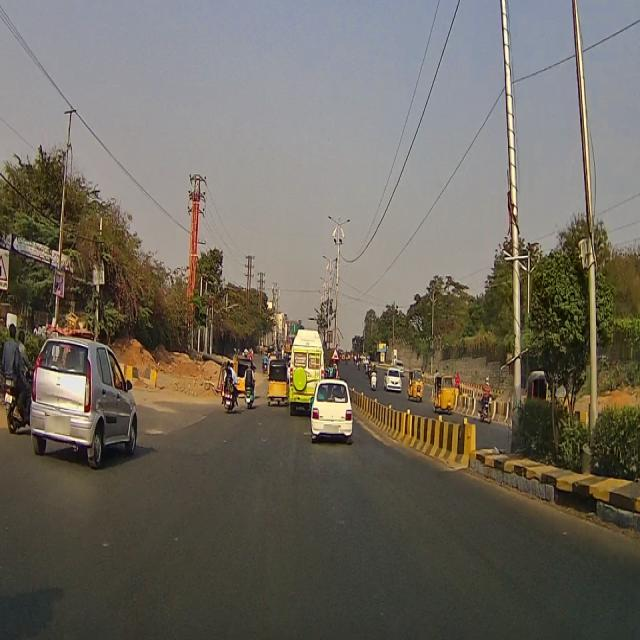side-road-left: (0, 243, 10, 290)
